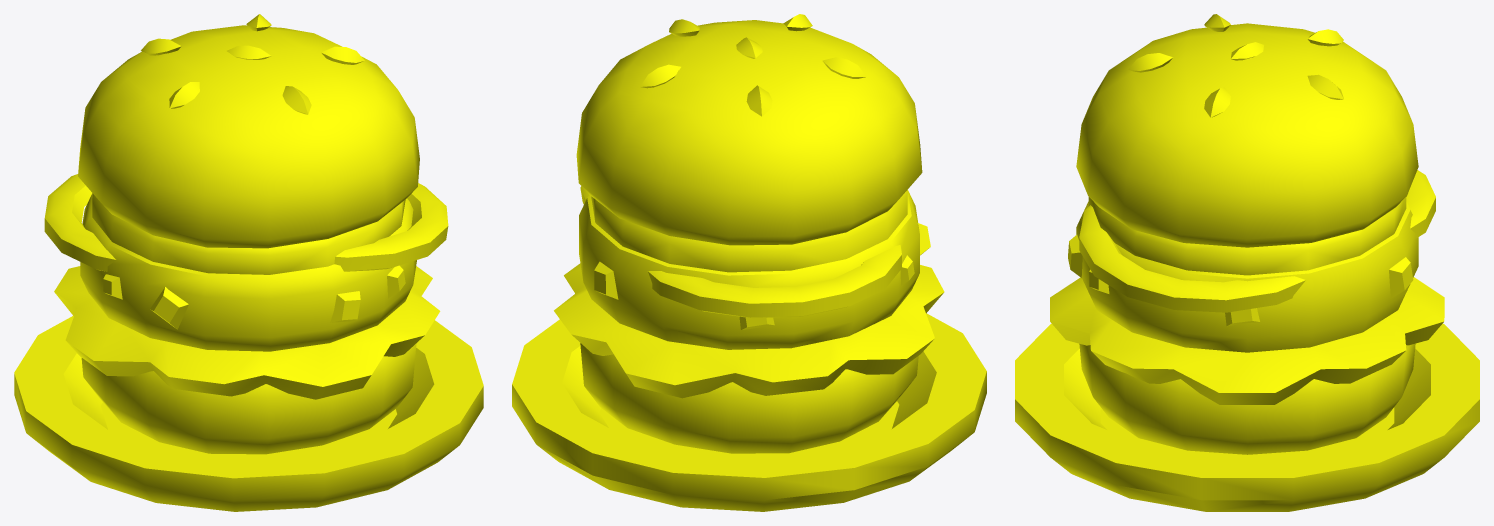
The model's file is kaykit-food-vegetableburger.glb.
3 views of the same model, side by side, from view 1: azimuth 30°, elevation 25°; view 2: azimuth 150°, elevation 25°; view 3: azimuth 270°, elevation 25° (orthographic).
Visible parts, largest first — view 1: food_vegetableburger; view 2: food_vegetableburger; view 3: food_vegetableburger.
Boxes of the visible parts, x1,y1,x2,y2 form: food_vegetableburger: (14,14,483,511); food_vegetableburger: (512,14,986,511); food_vegetableburger: (1015,14,1479,511).
Size of the model in its own units: 0.95 by 0.8572 by 0.95.
